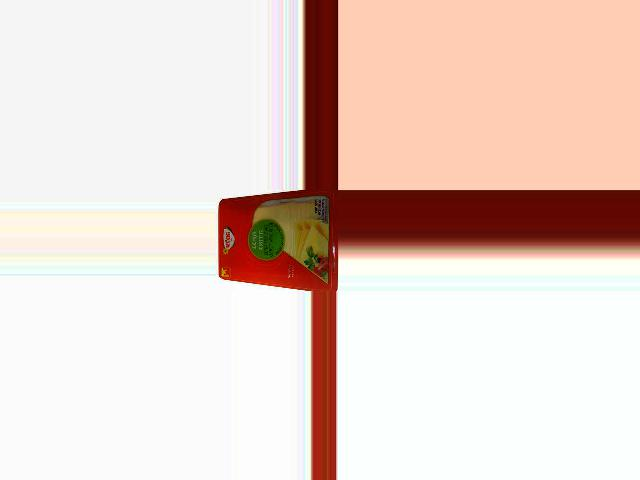cheese: (219, 192, 338, 292)
